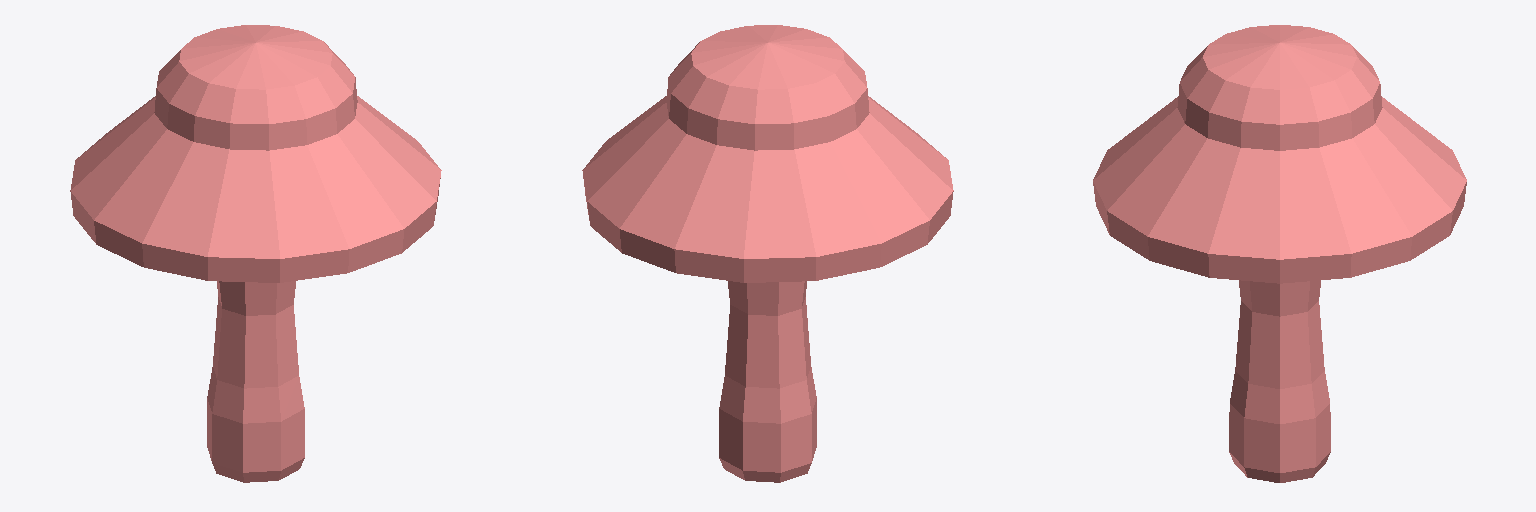
Rendered from Mushroom_02_Base.obj.
3 views of the same model, side by side, from view 1: azimuth 30°, elevation 25°; view 2: azimuth 150°, elevation 25°; view 3: azimuth 270°, elevation 25° (orthographic).
Visible parts, largest first — view 1: Mushroom_02_Base_Circle.005; view 2: Mushroom_02_Base_Circle.005; view 3: Mushroom_02_Base_Circle.005.
Boxes of the visible parts, box(x1,y1,x2,y2) form: Mushroom_02_Base_Circle.005: box(70, 25, 441, 482); Mushroom_02_Base_Circle.005: box(582, 25, 953, 482); Mushroom_02_Base_Circle.005: box(1093, 25, 1466, 482).
Size of the model in its own units: 0.4839 by 0.6087 by 0.4839.